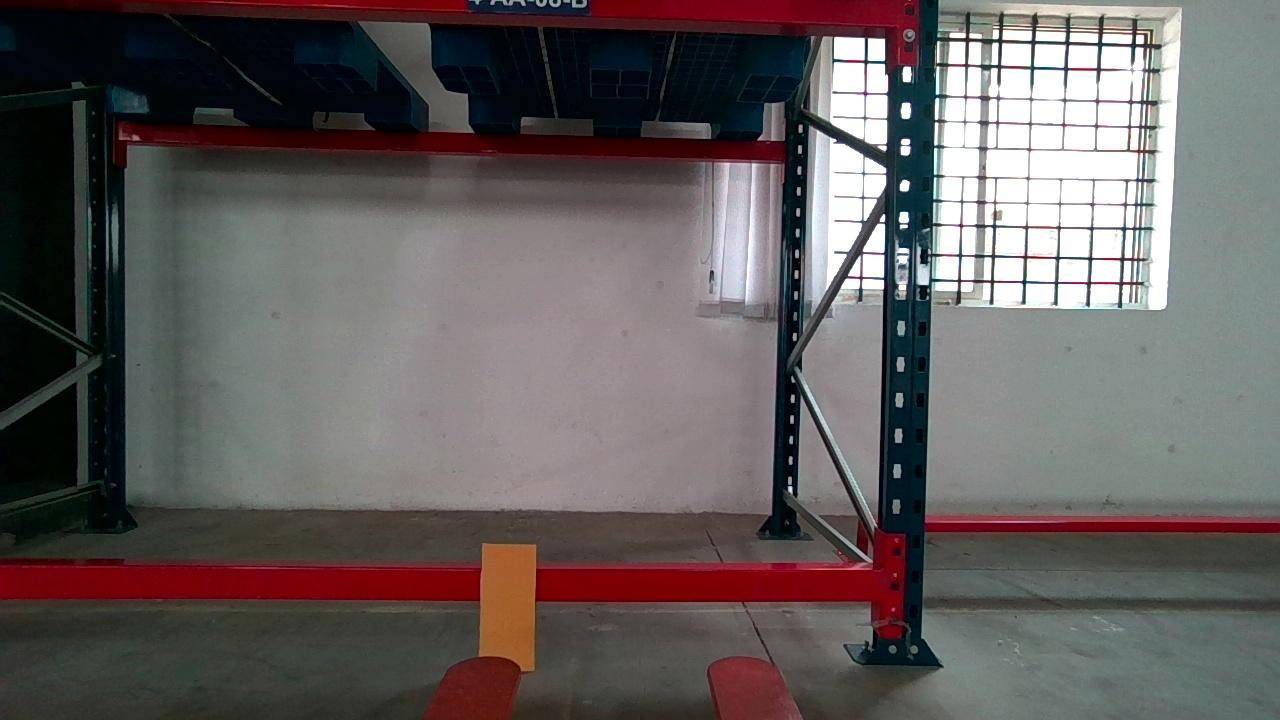h_rack: (0, 565, 880, 601)
orange_strip: (480, 544, 538, 670)
